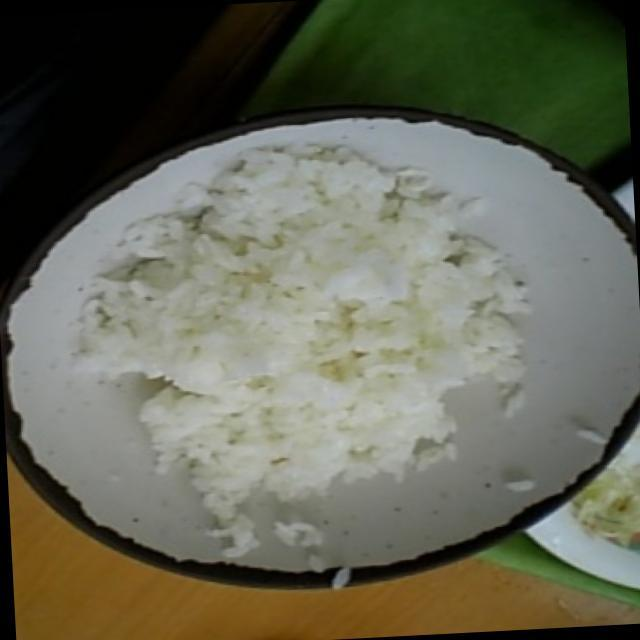Rice: (88, 150, 540, 514)
